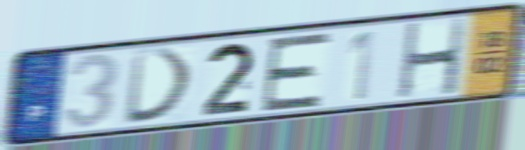1: (348, 28, 376, 100)
2: (202, 40, 256, 118)
3: (62, 49, 127, 132)
D: (122, 46, 197, 128)
E: (258, 29, 335, 114)
H: (396, 15, 467, 102)
